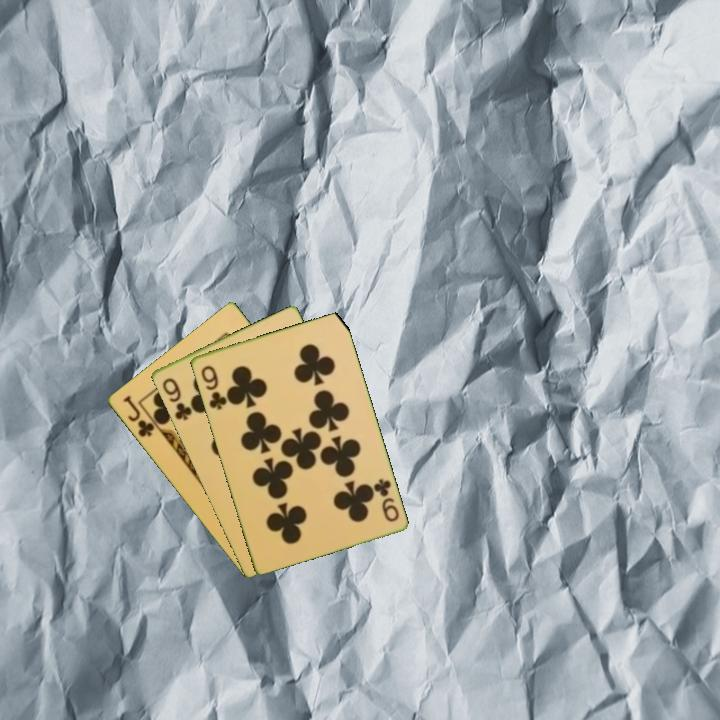9c: (158, 374, 195, 424), (369, 475, 402, 525), (197, 362, 229, 413)
Jc: (119, 392, 157, 440)
